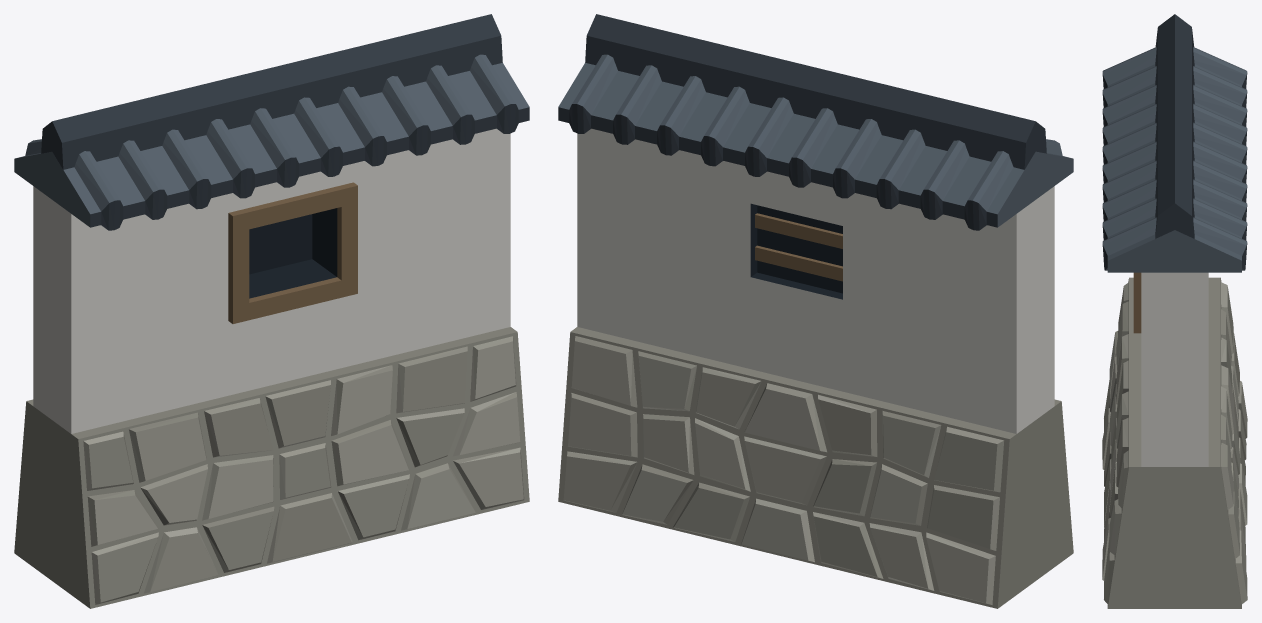
Rendered from dobei-plaster-wall-b75823.glb.
3 renders of one model, left to right at view 1: azimuth 30°, elevation 25°; view 2: azimuth 150°, elevation 25°; view 3: azimuth 270°, elevation 25°, orthographic. The views are drawn at different scales.
Parts seen in each view (by area): view 1: dobei-plaster-wall; view 2: dobei-plaster-wall; view 3: dobei-plaster-wall.
Part boxes in pixels (box(x1,y1,x2,y2)): dobei-plaster-wall: box(14, 14, 529, 608); dobei-plaster-wall: box(558, 14, 1073, 608); dobei-plaster-wall: box(1102, 14, 1247, 608).
Size of the model in its own units: 2 by 2 by 0.6479.
